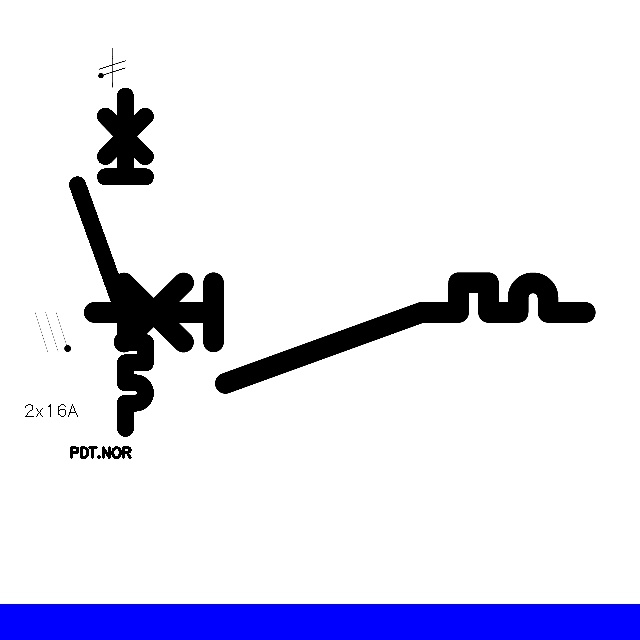interruptor_termomagnetico: (81, 270, 598, 396), (69, 87, 154, 437)
